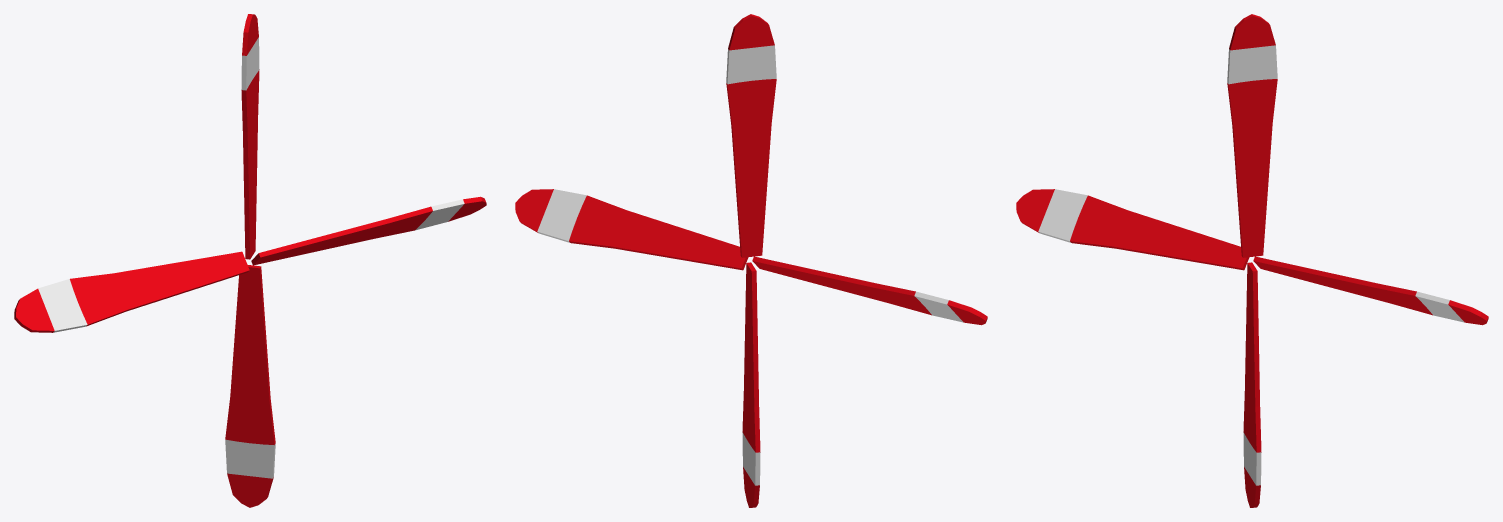
Rendered from Propeller mock up.fbx.
The picture shows the model from 3 angles, left to right: view 1: azimuth 30°, elevation 25°; view 2: azimuth 150°, elevation 25°; view 3: azimuth 330°, elevation 25°; orthographic projection.
Parts seen in each view (by area): view 1: Propeller; view 2: Propeller; view 3: Propeller.
Boxes of the visible parts, bbox=[...] form: Propeller: bbox=[14, 14, 486, 507]; Propeller: bbox=[515, 14, 987, 507]; Propeller: bbox=[1016, 14, 1488, 507].
Size of the model in its own units: 304 by 304 by 22.14.
